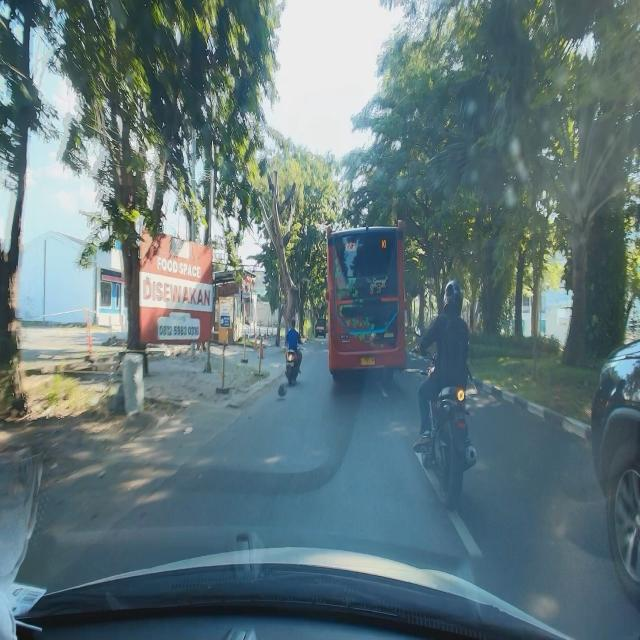bus: (325, 219, 407, 383)
license-plate: (360, 356, 376, 366)
